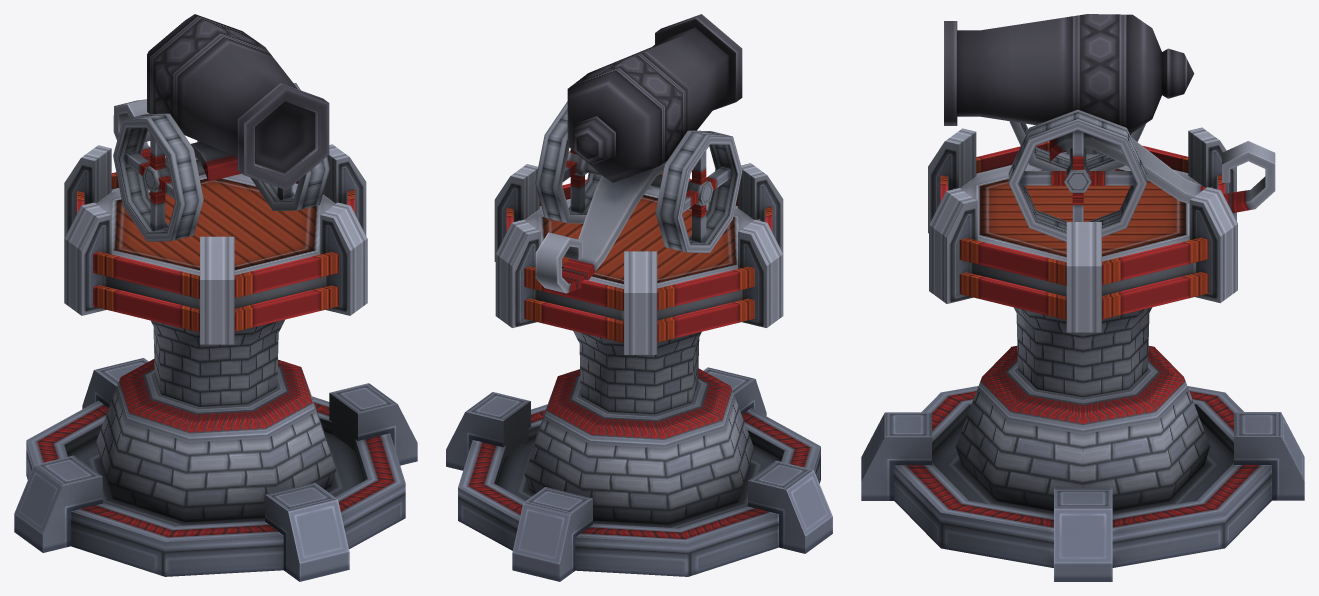
File: CannonTower_Level2_F.FBX
3 renders of one model, left to right at view 1: azimuth 30°, elevation 25°; view 2: azimuth 150°, elevation 25°; view 3: azimuth 270°, elevation 25°, orthographic. The views are drawn at different scales.
Parts seen in each view (by area): view 1: CannonTower_Level2, CannonTower_Cannon002; view 2: CannonTower_Level2, CannonTower_Cannon002; view 3: CannonTower_Level2, CannonTower_Cannon002.
Part boxes in pixels (left/top/right/bottom): CannonTower_Level2: left=14, top=140, right=417, bottom=581; CannonTower_Cannon002: left=113, top=14, right=329, bottom=241; CannonTower_Level2: left=446, top=163, right=832, bottom=581; CannonTower_Cannon002: left=535, top=14, right=742, bottom=293; CannonTower_Level2: left=861, top=127, right=1304, bottom=581; CannonTower_Cannon002: left=944, top=14, right=1275, bottom=241.
Bounding box in the file's own units: 59.86 × 70.87 × 59.86.
